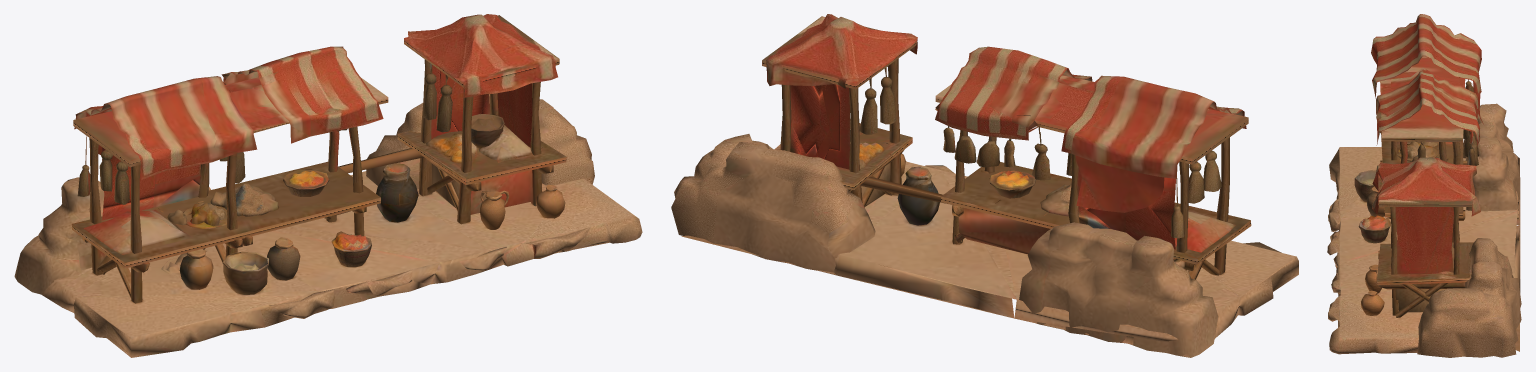
Rendered from market.glb.
The picture shows the model from 3 angles, left to right: view 1: azimuth 30°, elevation 25°; view 2: azimuth 150°, elevation 25°; view 3: azimuth 270°, elevation 25°; orthographic projection. The views are drawn at different scales.
Size of the model in its own units: 0.9585 by 0.3623 by 0.3916.
Materials: 1 (1 with a texture image).
